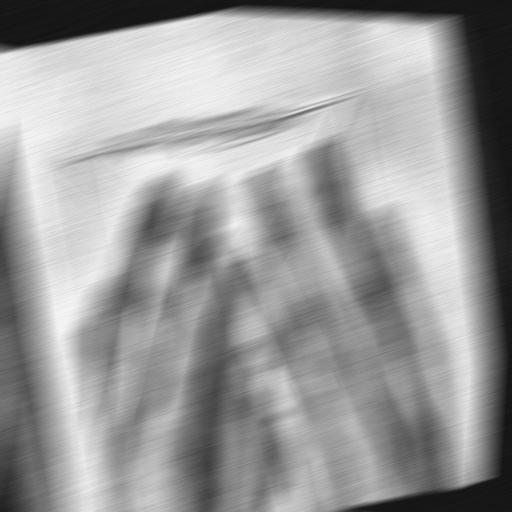envelop: (58, 85, 427, 512)
